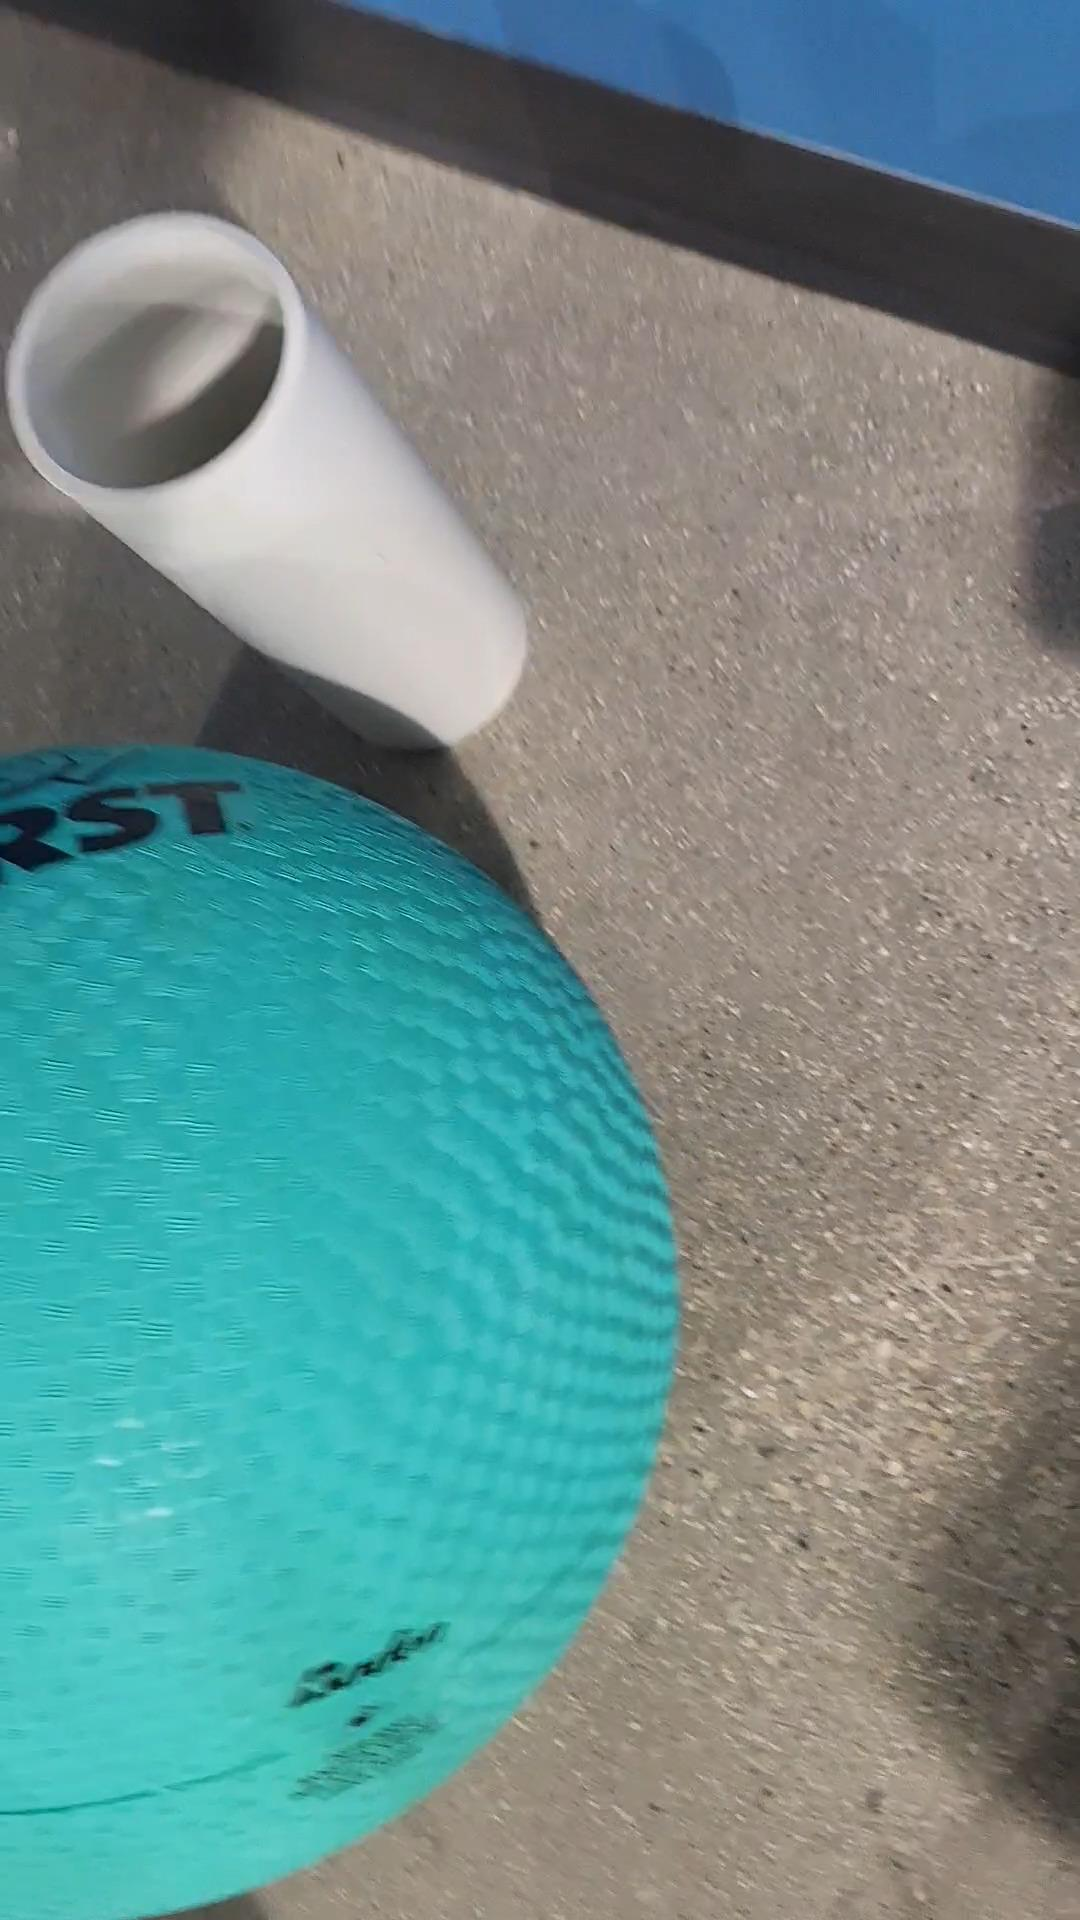algae: (0, 742, 684, 1920)
coral: (17, 220, 538, 753)
